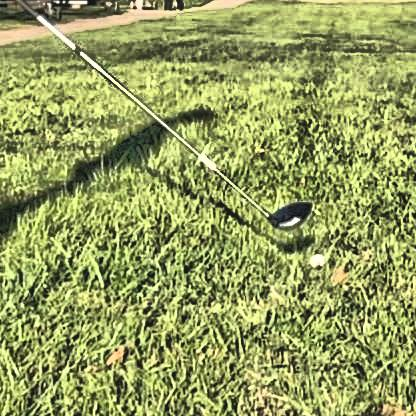golfball: (305, 249, 322, 264)
